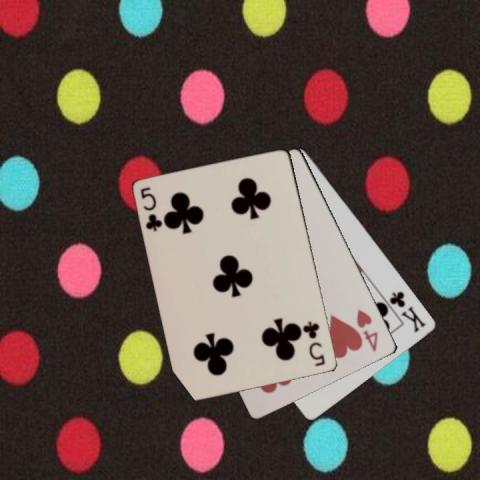4h: (354, 306, 380, 354)
5c: (137, 184, 164, 233), (302, 318, 327, 368)
Kc: (387, 288, 428, 334)
